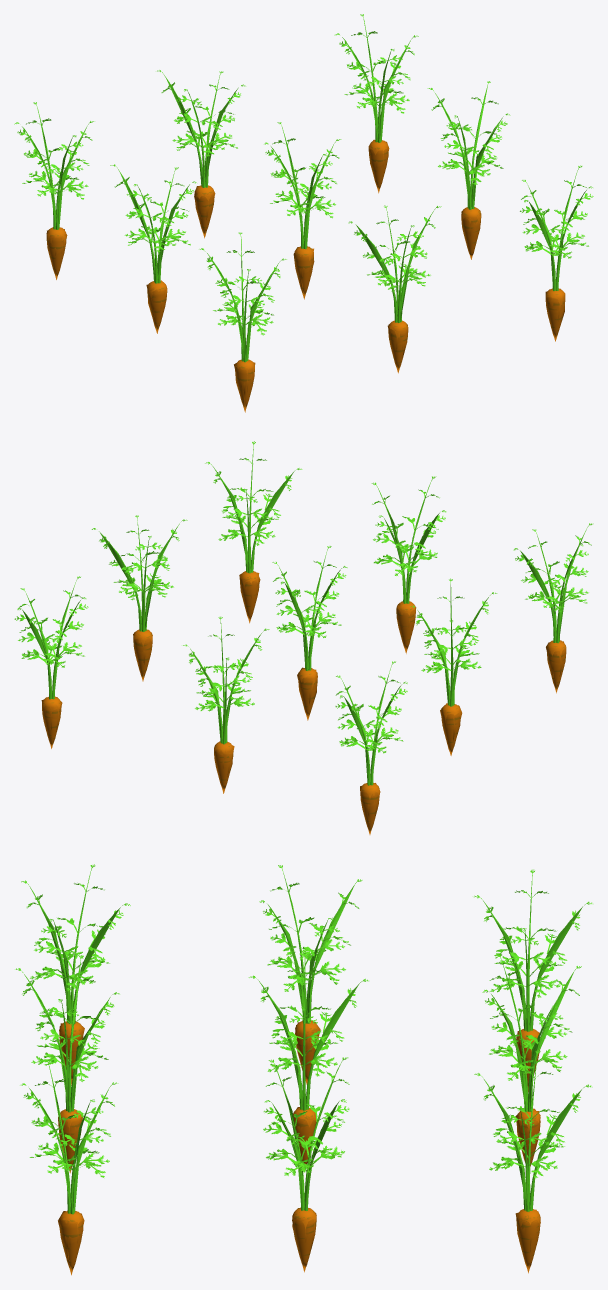
File: Carrot_lvl4.fbx
The picture shows the model from 3 angles, top to bottom: view 1: azimuth 30°, elevation 25°; view 2: azimuth 150°, elevation 25°; view 3: azimuth 270°, elevation 25°; orthographic projection. The views are drawn at different scales.
Parts seen in each view (by area): view 1: Carrot_lvl4_LOD0, Carrot_lvl4_LOD0.001, Carrot_lvl4_LOD0.003, Carrot_lvl4_LOD0.002; view 2: Carrot_lvl4_LOD0, Carrot_lvl4_LOD0.003, Carrot_lvl4_LOD0.001, Carrot_lvl4_LOD0.002; view 3: Carrot_lvl4_LOD0, Carrot_lvl4_LOD0.003, Carrot_lvl4_LOD0.001, Carrot_lvl4_LOD0.002.
Part boxes in pixels (x1=…): Carrot_lvl4_LOD0: x1=14, y1=14, x2=593, y2=406; Carrot_lvl4_LOD0.001: x1=15, y1=14, x2=592, y2=408; Carrot_lvl4_LOD0.003: x1=16, y1=16, x2=592, y2=412; Carrot_lvl4_LOD0.002: x1=18, y1=15, x2=591, y2=411; Carrot_lvl4_LOD0: x1=15, y1=441, x2=593, y2=830; Carrot_lvl4_LOD0.003: x1=15, y1=443, x2=590, y2=799; Carrot_lvl4_LOD0.001: x1=14, y1=441, x2=591, y2=831; Carrot_lvl4_LOD0.002: x1=18, y1=442, x2=591, y2=834; Carrot_lvl4_LOD0: x1=16, y1=864, x2=591, y2=1268; Carrot_lvl4_LOD0.003: x1=18, y1=866, x2=589, y2=1273; Carrot_lvl4_LOD0.001: x1=16, y1=864, x2=591, y2=1270; Carrot_lvl4_LOD0.002: x1=18, y1=865, x2=590, y2=1274.
Bounding box in the file's own units: 103 × 98.96 × 41.9.
